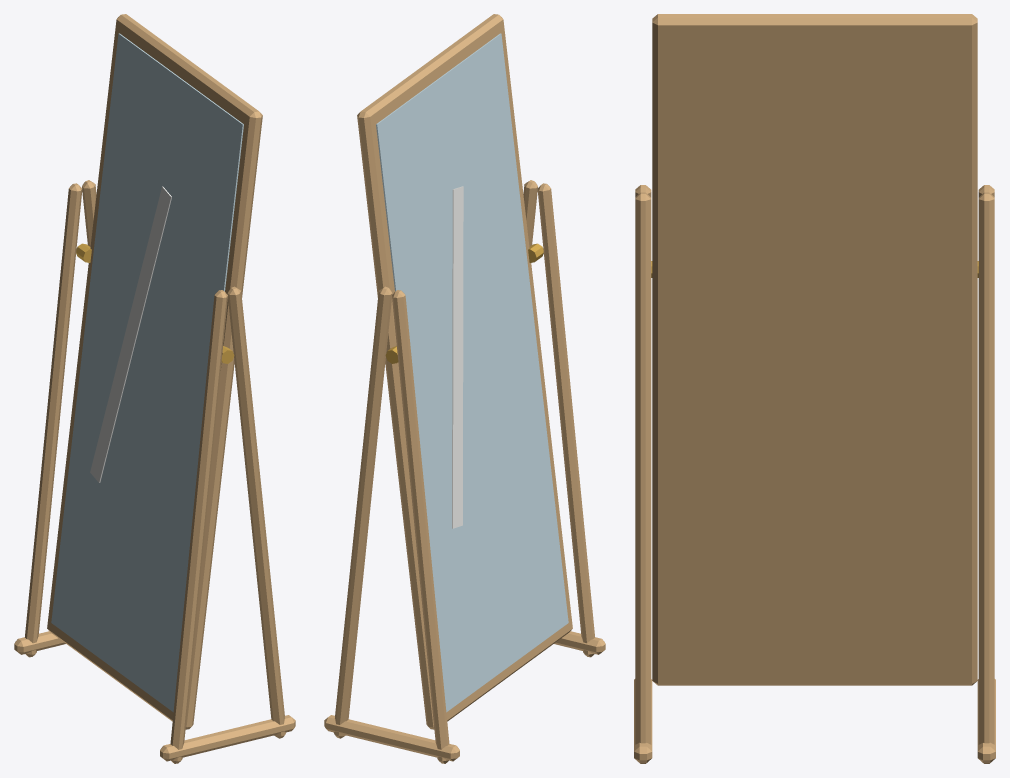
The model's file is floor_mirror.glb.
3 views of the same model, side by side, from view 1: azimuth 30°, elevation 25°; view 2: azimuth 150°, elevation 25°; view 3: azimuth 270°, elevation 25° (orthographic). The views are drawn at different scales.
Parts seen in each view (by area): view 1: floor_mirror_Body; view 2: floor_mirror_Body; view 3: floor_mirror_Body.
Boxes of the visible parts, bbox=[...] form: floor_mirror_Body: bbox=[14, 14, 295, 763]; floor_mirror_Body: bbox=[324, 14, 605, 763]; floor_mirror_Body: bbox=[634, 14, 995, 763].
Size of the model in its own units: 0.4 by 1.8 by 0.8.
